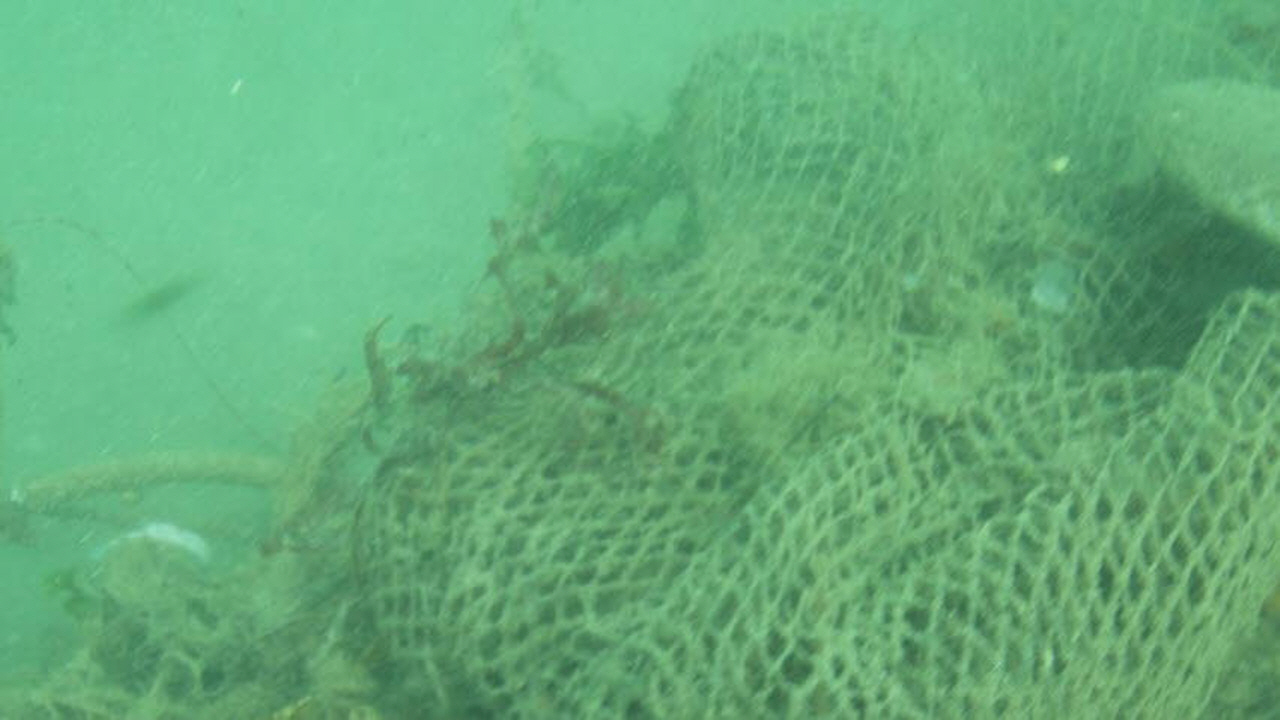fish net: (353, 0, 1280, 720)
